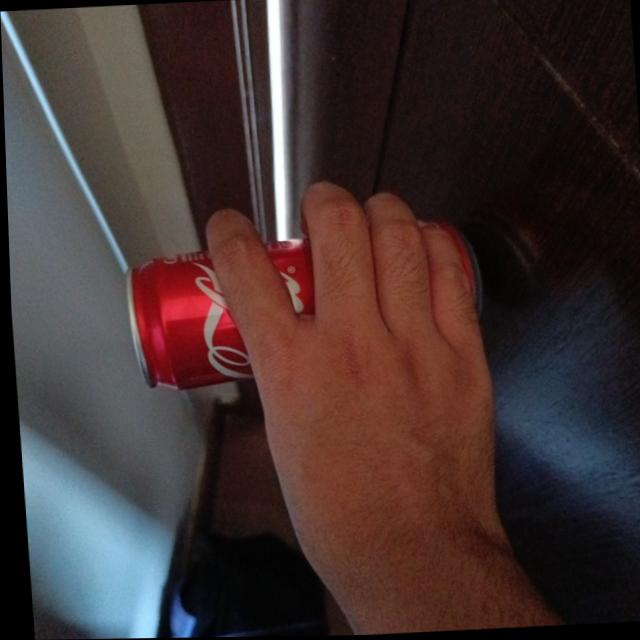coke: (119, 222, 480, 390)
